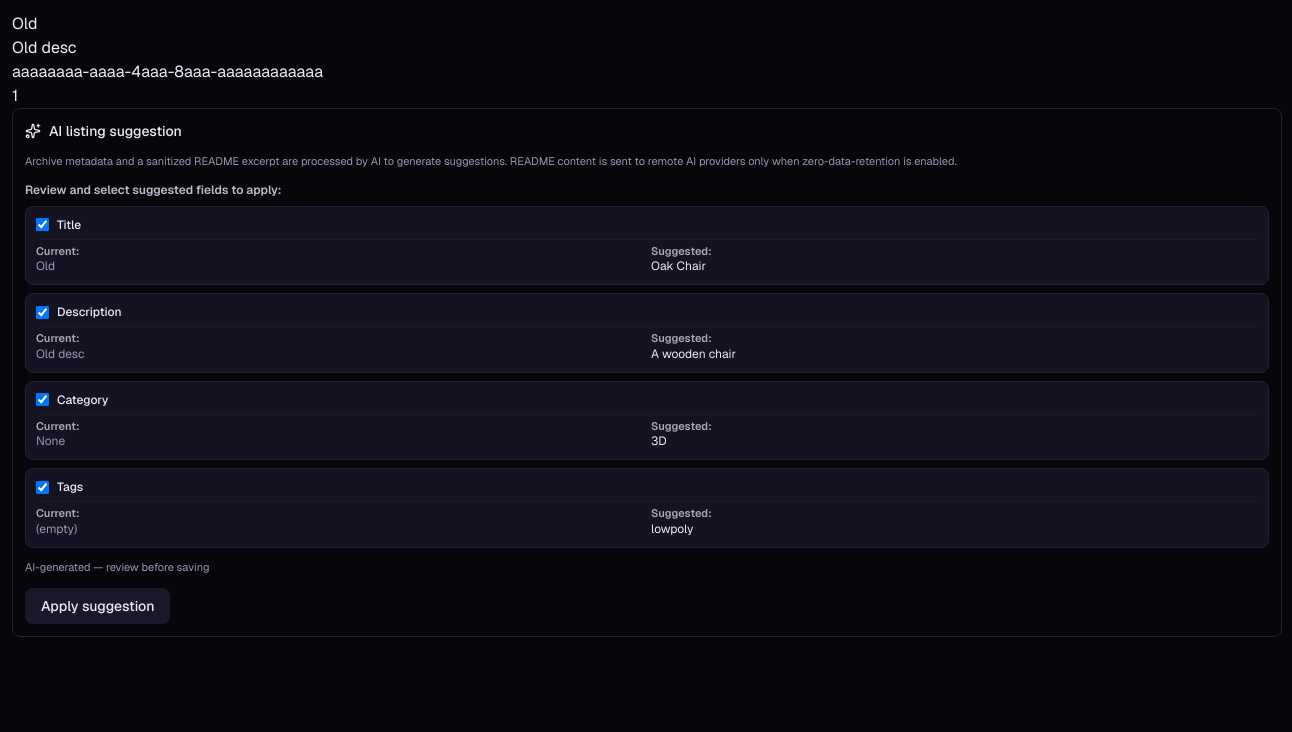
Test: ListingCopilotPanel › applies only selected fields when seller unchecks specific fields
Expected: the text "Oak Chair" is shown, [651,258,706,274]
Note: Uncheck title and tags
Click the checkbox named "select title": (42, 224) [36,218,49,231]
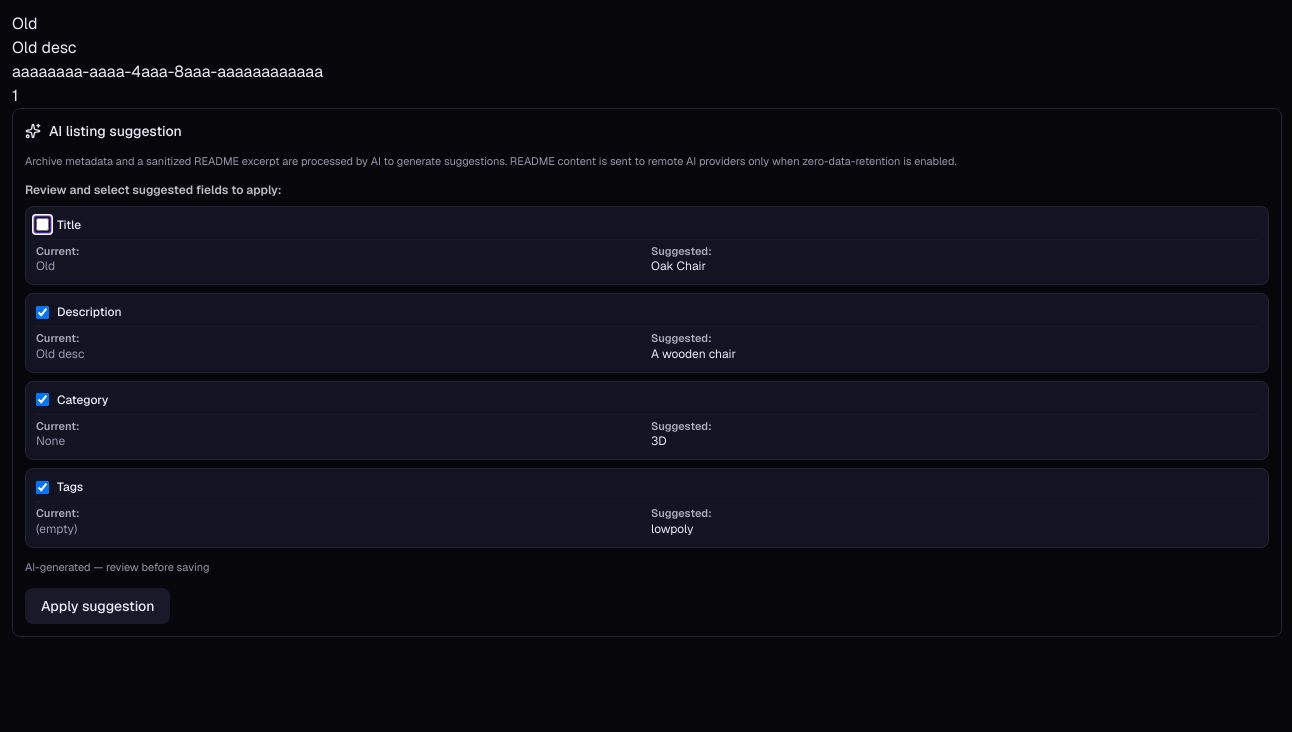
Click the checkbox named "select tags": (42, 488) [36,481,49,494]
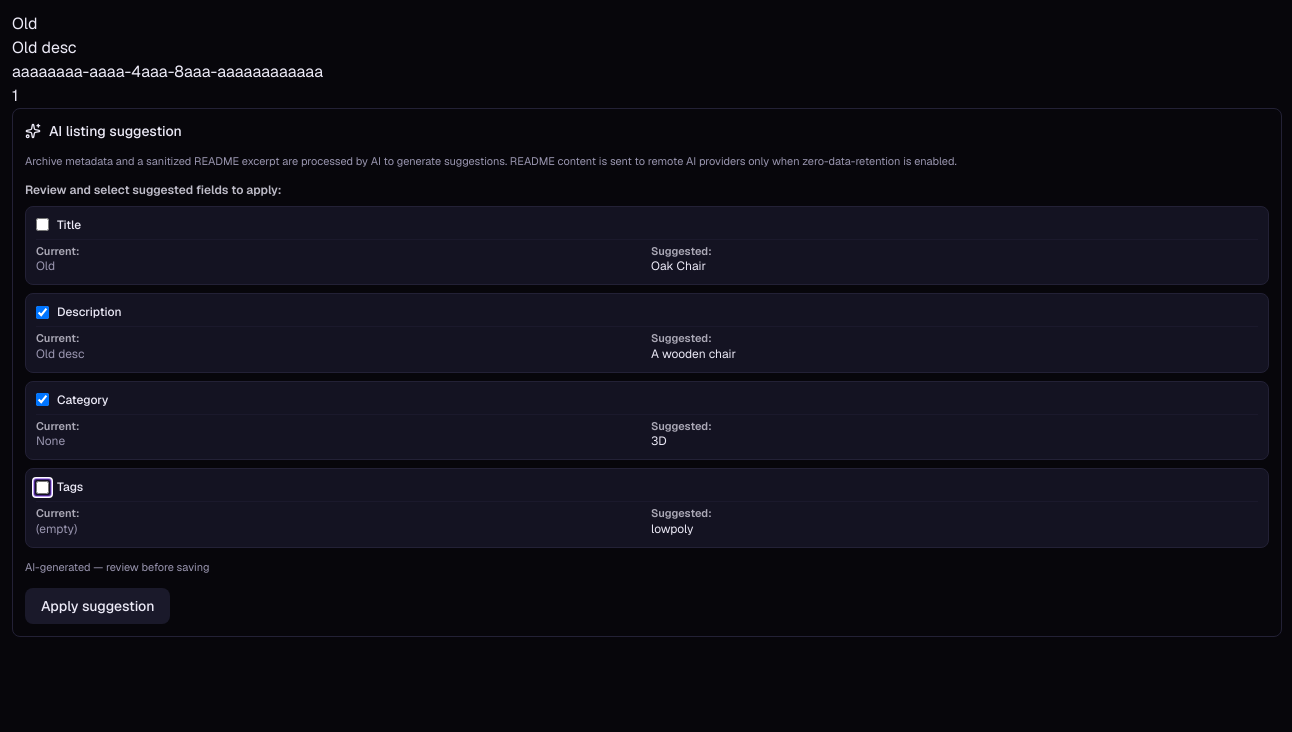
Click the button "Apply suggestion": (98, 606) [25,588,170,624]
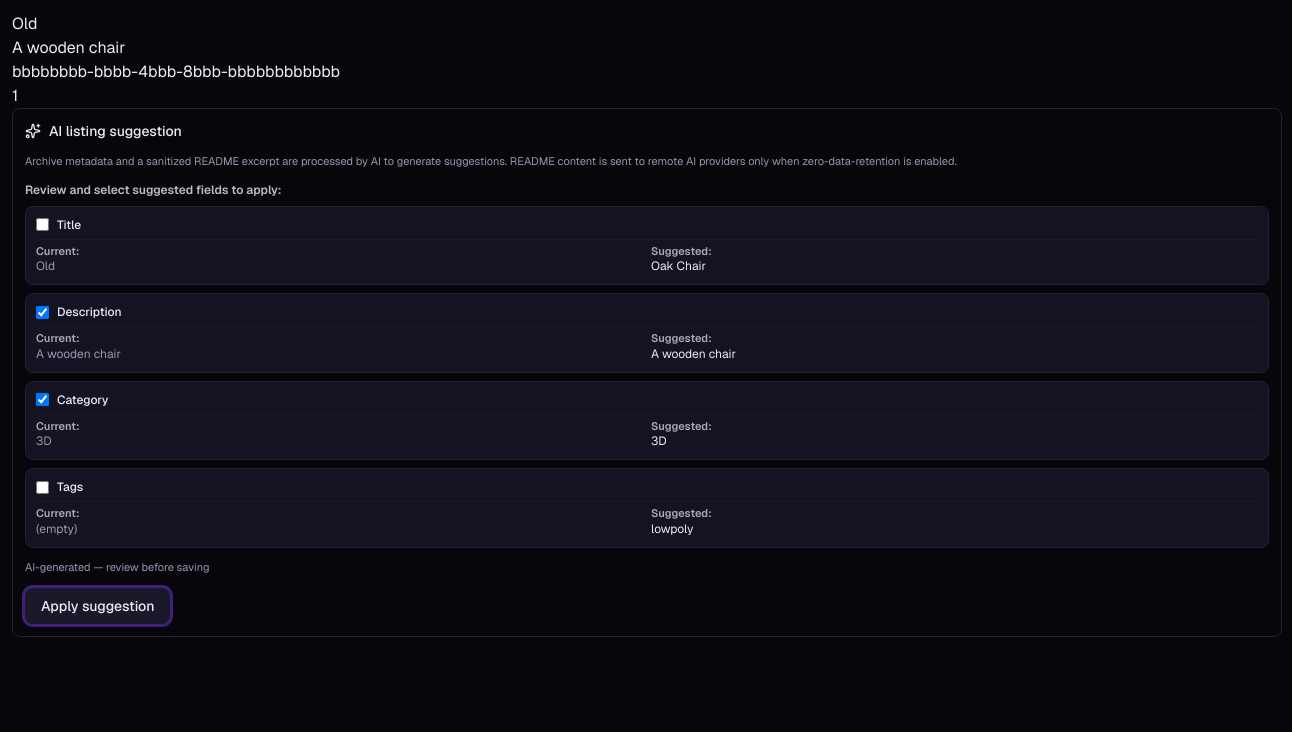
Expected: the text with test id "title" reads "Old", [12,13,38,34]
Expected: the text with test id "description" reads "A wooden chair", [12,37,125,58]
Expected: the text with test id "category" reads "bbbbbbbb-bbbb-4bbb-8bbb-bbbbbbbbbbbb", [12,61,340,82]
